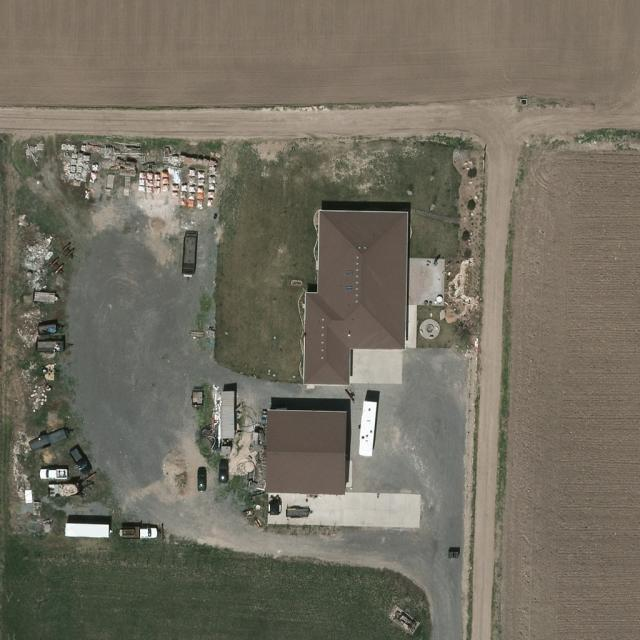vehicle: (220, 392, 236, 456), (70, 446, 94, 476), (120, 526, 160, 540), (216, 458, 231, 484), (196, 467, 208, 492), (40, 470, 68, 480)
